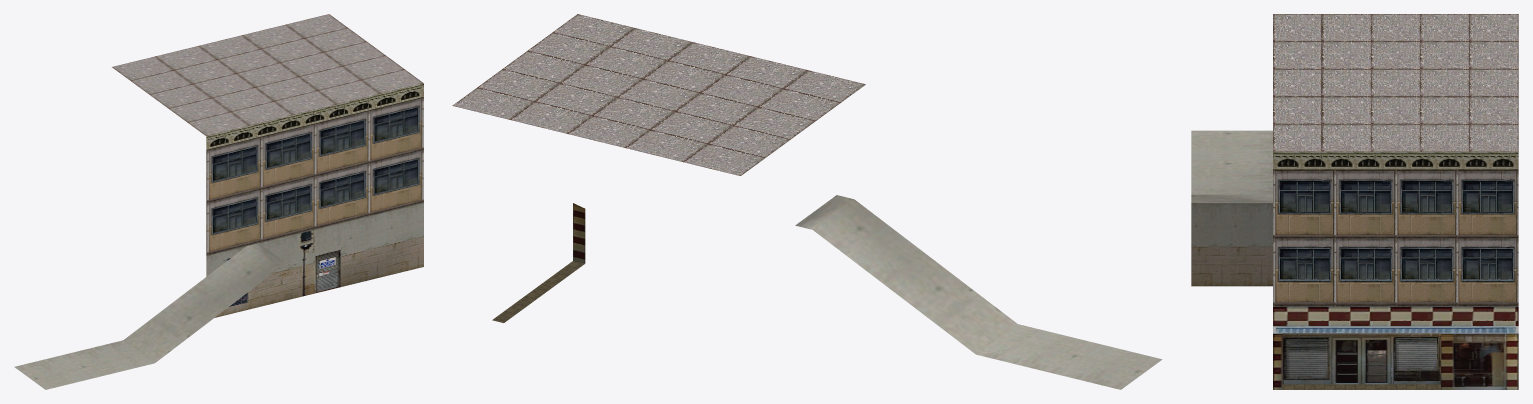
File: M2Zone1_Store.glb
3 renders of one model, left to right at view 1: azimuth 30°, elevation 25°; view 2: azimuth 150°, elevation 25°; view 3: azimuth 270°, elevation 25°, orthographic. The views are drawn at different scales.
Visible parts, largest first — view 1: M2ZONE1_STORE; view 2: M2ZONE1_STORE; view 3: M2ZONE1_STORE.
Boxes of the visible parts, box(x1,y1,x2,y2) form: M2ZONE1_STORE: box(14, 14, 423, 389); M2ZONE1_STORE: box(452, 14, 1162, 389); M2ZONE1_STORE: box(1191, 14, 1518, 389).
Bounding box in the file's own units: 30 × 12.85 × 16.
6 materials, 6 textured.
